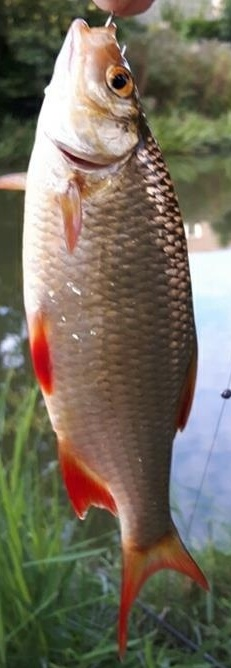Scardinius erythrophthalmus: (20, 20, 211, 648)
